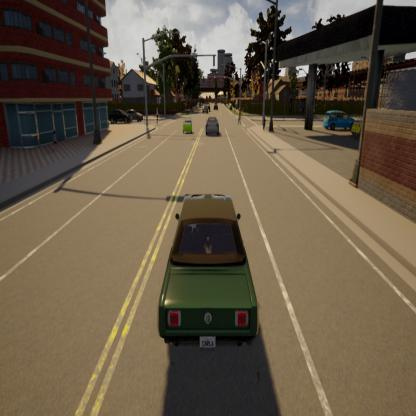Cars: (157, 194, 259, 350), (322, 109, 354, 132), (108, 107, 132, 125), (125, 107, 143, 124), (206, 116, 220, 135), (182, 117, 194, 135)
Pedestrian: (51, 128, 58, 151), (237, 105, 242, 127), (155, 105, 160, 127), (263, 115, 267, 133)
